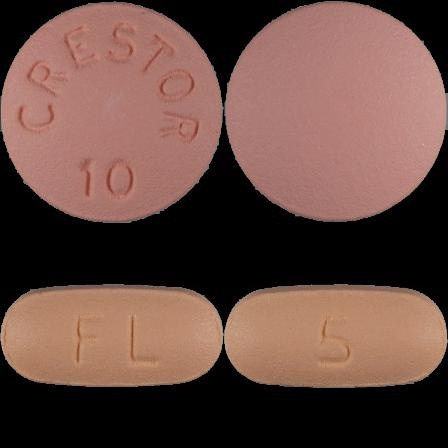63629-3381: (0, 0, 224, 224)
